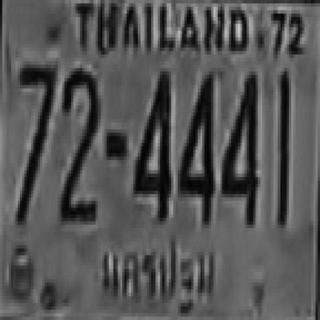N01: (276, 70, 289, 223)
N02: (59, 66, 99, 219)
N04: (132, 68, 170, 218), (177, 68, 214, 221), (220, 68, 255, 225)
N07: (17, 63, 54, 220)
P28: (96, 227, 214, 310)
